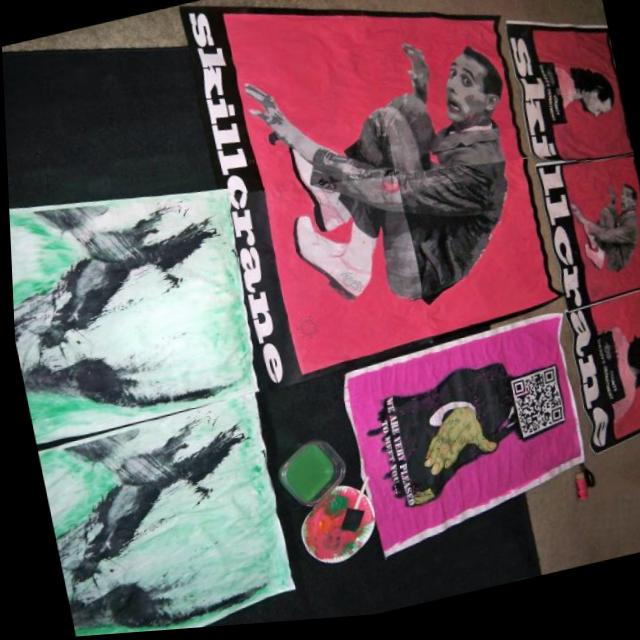qrcode: (508, 378, 562, 445)
